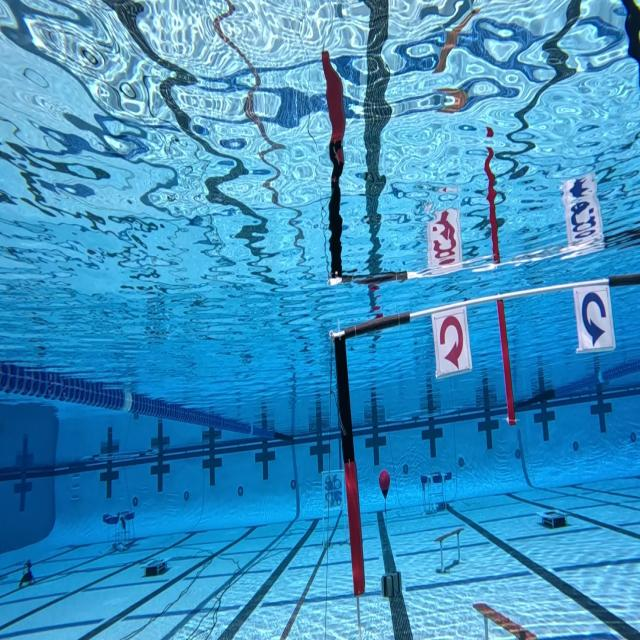blue_side: (567, 278, 616, 349)
red_side: (428, 306, 474, 378)
